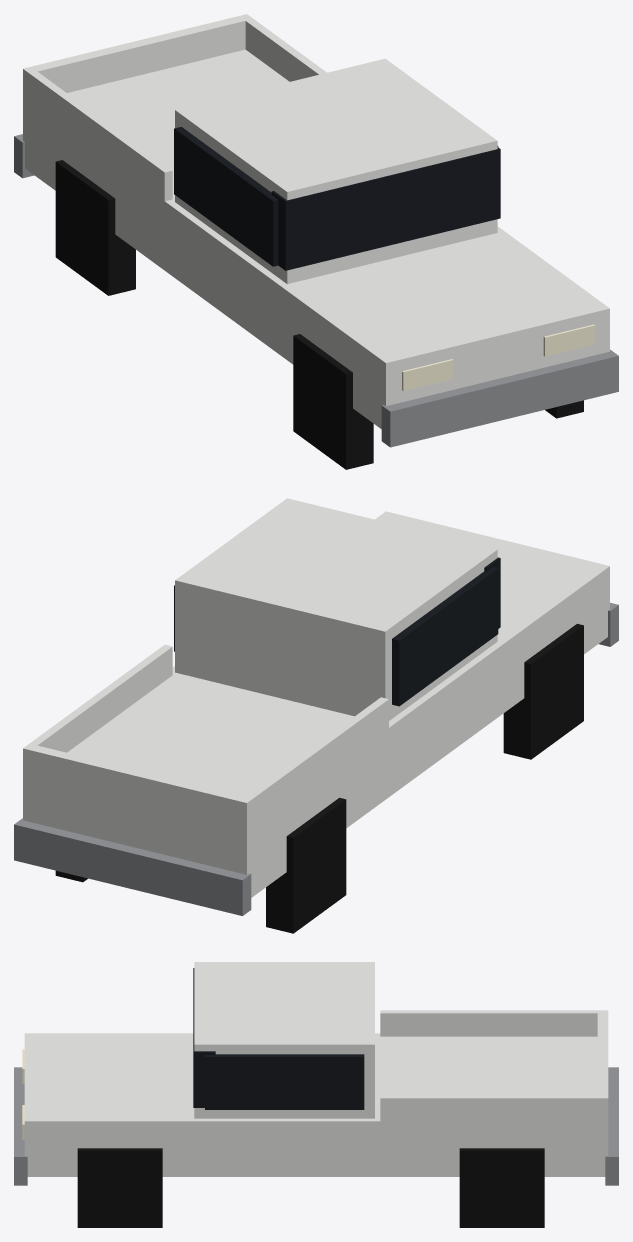
File: pickup_white.dae
The picture shows the model from 3 angles, top to bottom: view 1: azimuth 30°, elevation 25°; view 2: azimuth 150°, elevation 25°; view 3: azimuth 270°, elevation 25°; orthographic projection. The views are drawn at different scales.
Parts seen in each view (by area): view 1: marker; view 2: marker; view 3: marker.
Part boxes in pixels (x1,y1,x2,y2): marker: (14, 14, 618, 469); marker: (14, 498, 618, 933); marker: (14, 962, 618, 1227).
Bounding box in the file's own units: 2.08 × 5.7 × 1.85.
